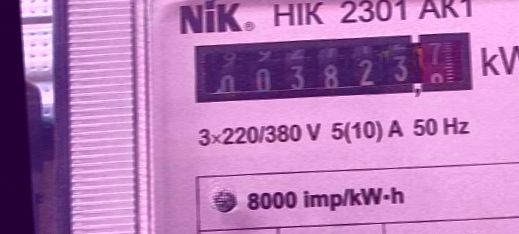0: (250, 64, 271, 93), (216, 71, 235, 95)
2: (354, 56, 375, 89)
3: (389, 53, 409, 84), (286, 61, 305, 91)
7: (425, 40, 443, 69)
8: (320, 61, 338, 90)
9: (217, 50, 236, 70)
screen: (184, 23, 476, 113)
